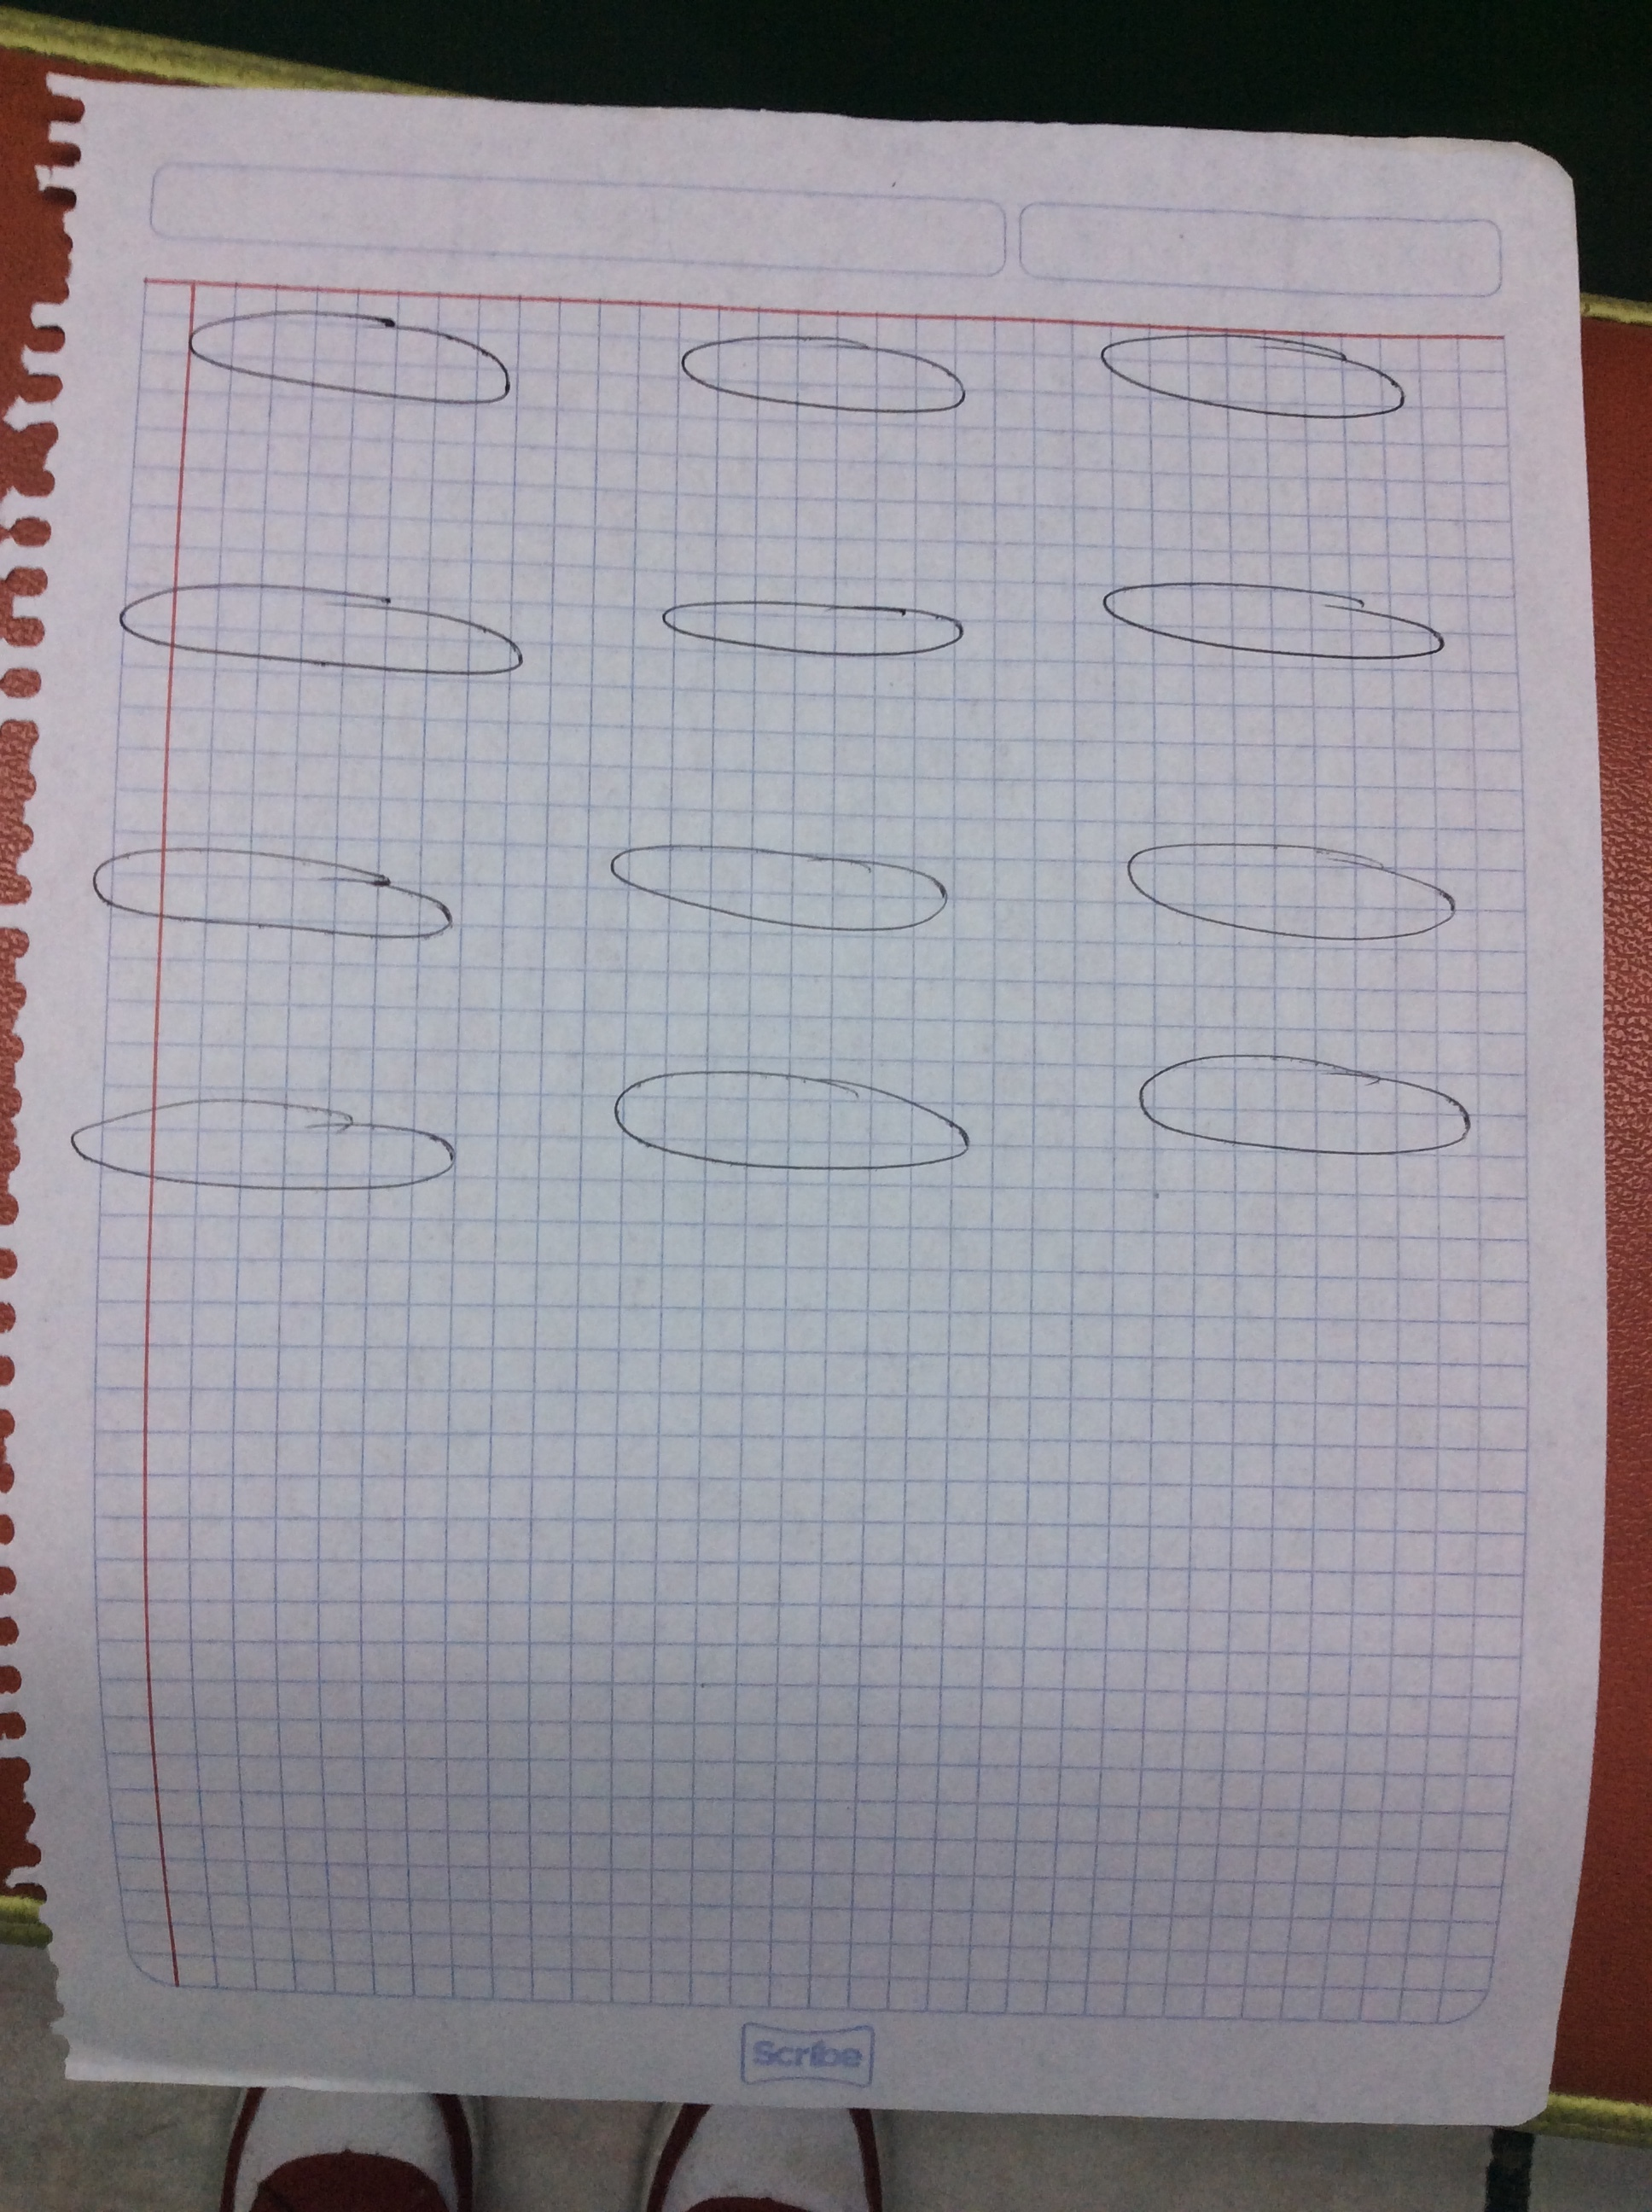start_end: (108, 546, 562, 717), (592, 1055, 1026, 1214), (76, 822, 486, 991), (168, 264, 541, 444), (52, 1072, 482, 1228), (1104, 1034, 1510, 1195), (1078, 812, 1491, 970), (1071, 293, 1439, 461), (588, 808, 979, 966), (1074, 543, 1491, 689), (661, 297, 991, 451), (637, 564, 980, 703)
